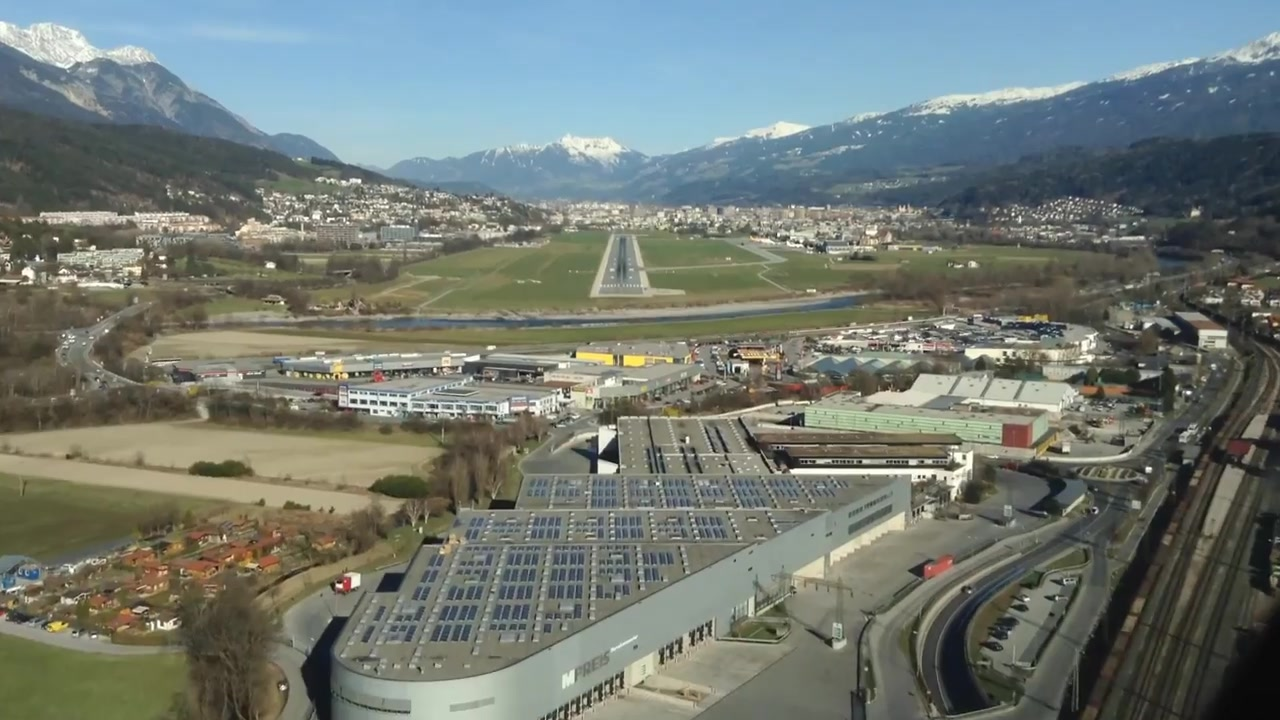entrance: (599, 281, 641, 290)
runway: (597, 234, 644, 296)
